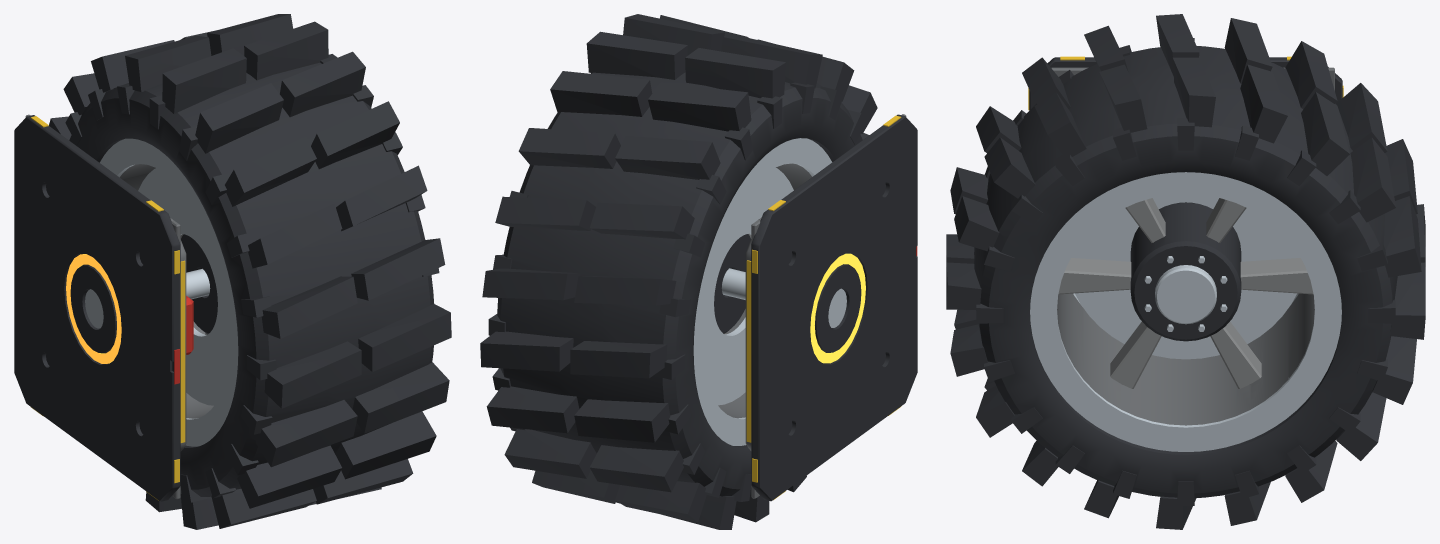
File: R4M_WheelM_Side_Offroad.glb
The picture shows the model from 3 angles, left to right: view 1: azimuth 30°, elevation 25°; view 2: azimuth 150°, elevation 25°; view 3: azimuth 270°, elevation 25°; orthographic projection.
Parts seen in each view (by area): view 1: R4M_WheelM_Side_Offroad_Rotor, R4M_WheelM_Side_Offroad_Mount; view 2: R4M_WheelM_Side_Offroad_Rotor, R4M_WheelM_Side_Offroad_Mount; view 3: R4M_WheelM_Side_Offroad_Rotor, R4M_WheelM_Side_Offroad_Mount.
Boxes of the visible parts, x1,y1,x2,y2 form: R4M_WheelM_Side_Offroad_Rotor: [49, 14, 451, 529]; R4M_WheelM_Side_Offroad_Mount: [14, 114, 210, 501]; R4M_WheelM_Side_Offroad_Rotor: [480, 14, 877, 529]; R4M_WheelM_Side_Offroad_Mount: [721, 114, 917, 501]; R4M_WheelM_Side_Offroad_Rotor: [946, 14, 1425, 529]; R4M_WheelM_Side_Offroad_Mount: [1028, 56, 1343, 204].
Size of the model in its own units: 0.452 by 0.7799 by 0.7799.
